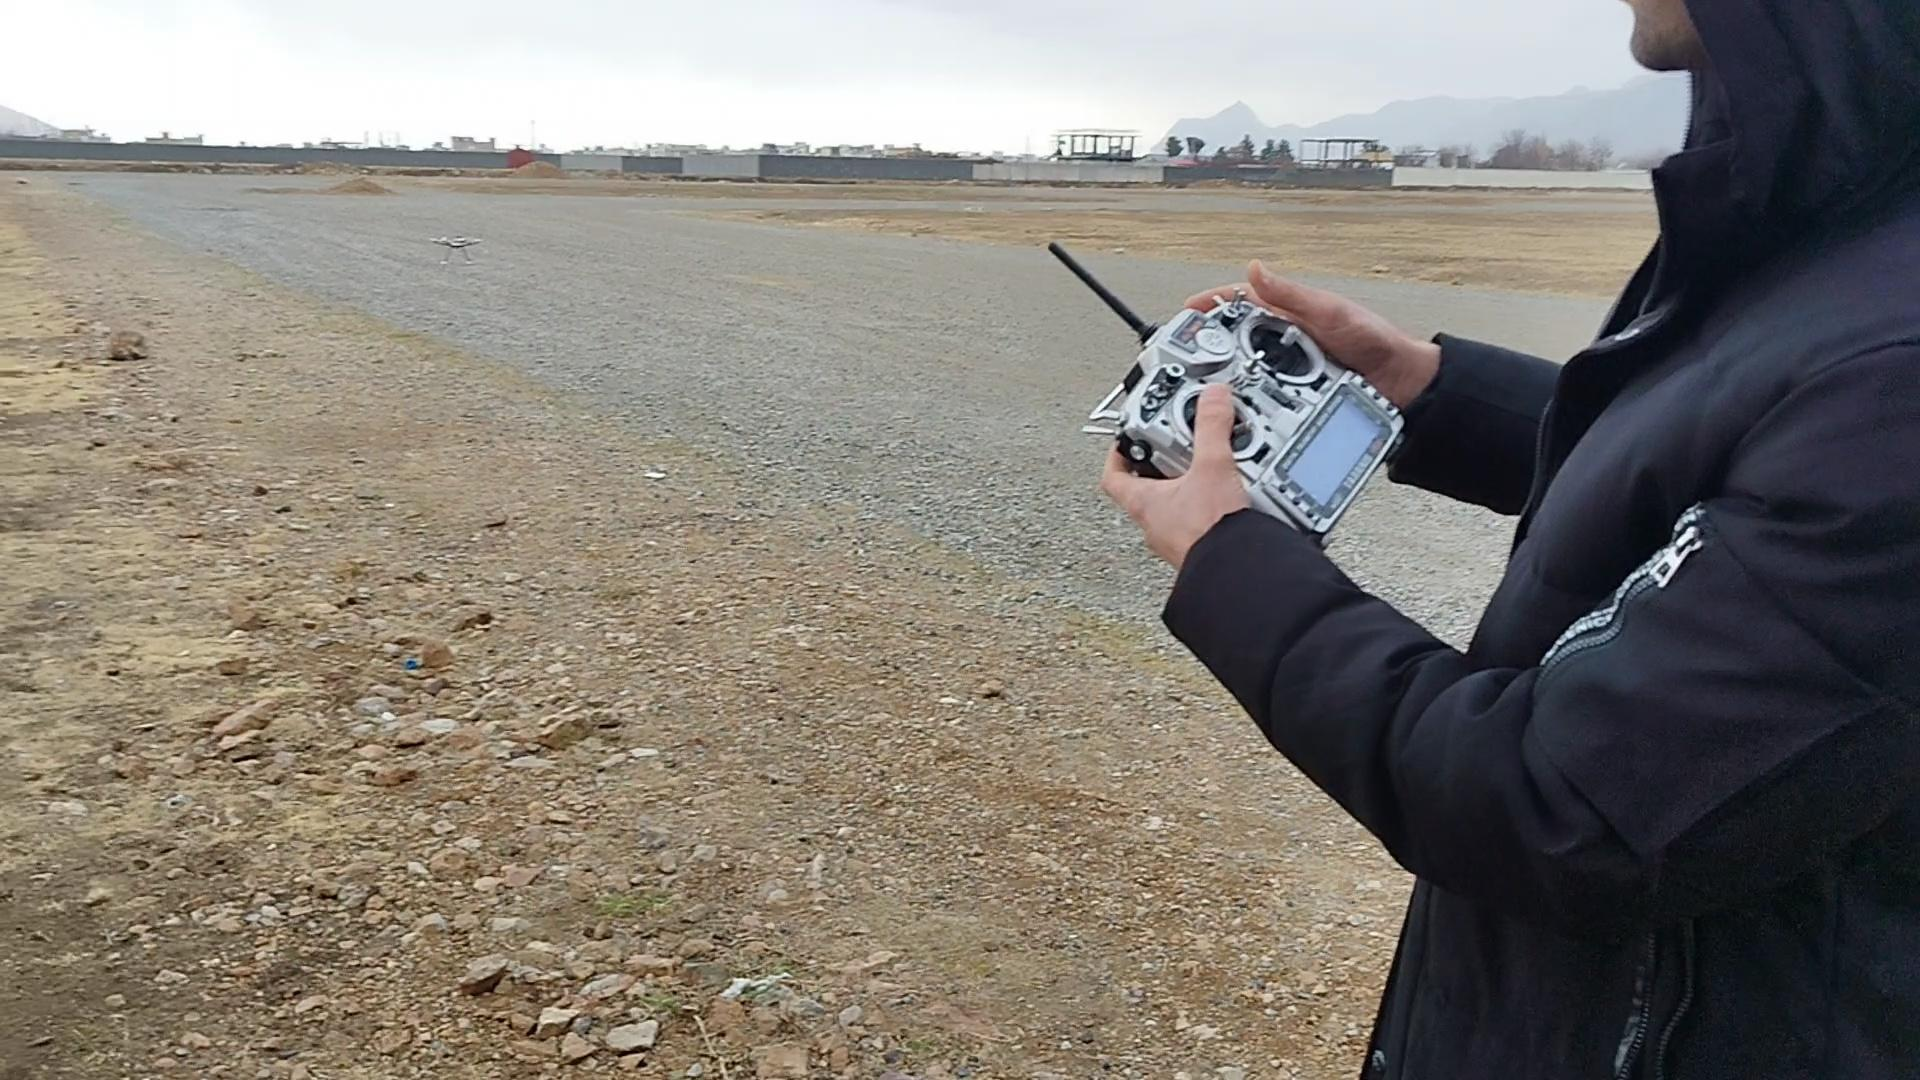drone: (426, 229, 487, 266)
